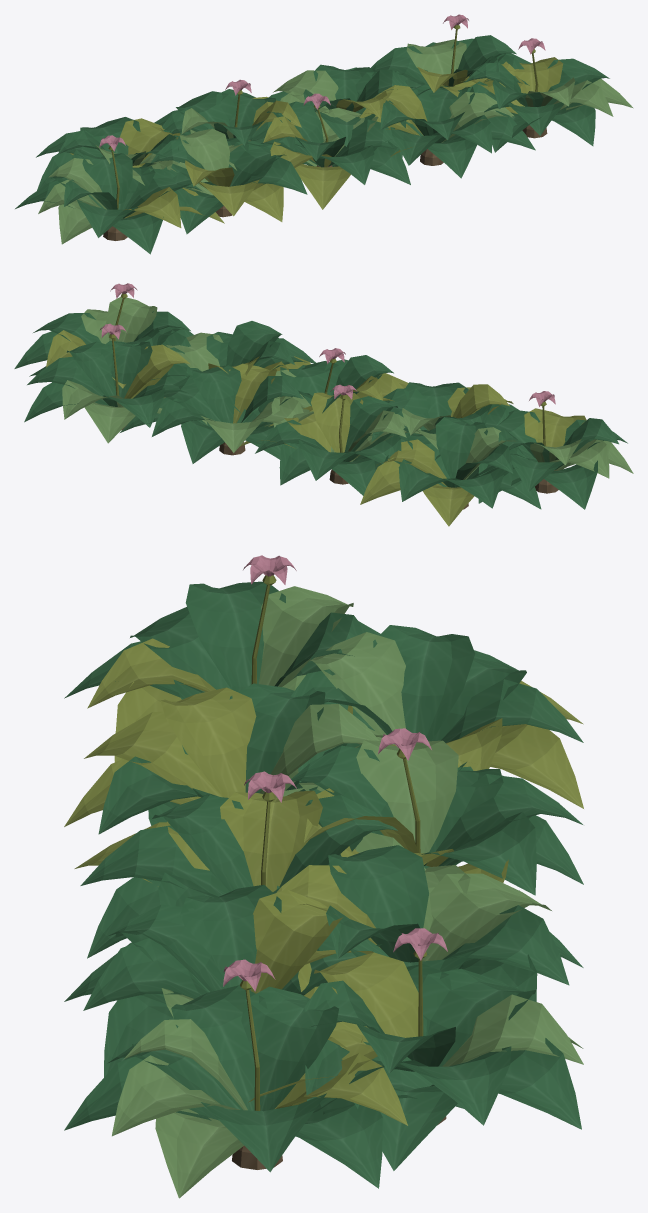
File: AST-BOT-003_pool_basal_03.glb
3 views of the same model, one above another, from view 1: azimuth 30°, elevation 25°; view 2: azimuth 150°, elevation 25°; view 3: azimuth 270°, elevation 25° (orthographic). The views are drawn at different scales.
Parts seen in each view (by area): view 1: RT_AST-BOT-003_pool_basal_03__leaf_jade, RT_AST-BOT-003_pool_basal_03__leaf_olive, RT_AST-BOT-003_pool_basal_03__leaf_sage, RT_AST-BOT-003_pool_basal_03__flower, RT_AST-BOT-003_pool_basal_03__bark; view 2: RT_AST-BOT-003_pool_basal_03__leaf_jade, RT_AST-BOT-003_pool_basal_03__leaf_olive, RT_AST-BOT-003_pool_basal_03__leaf_sage, RT_AST-BOT-003_pool_basal_03__flower, RT_AST-BOT-003_pool_basal_03__bark; view 3: RT_AST-BOT-003_pool_basal_03__leaf_jade, RT_AST-BOT-003_pool_basal_03__leaf_olive, RT_AST-BOT-003_pool_basal_03__leaf_sage, RT_AST-BOT-003_pool_basal_03__flower.
Boxes of the visible parts, box(x1,y1,x2,y2) form: RT_AST-BOT-003_pool_basal_03__leaf_jade: box(15, 35, 609, 254); RT_AST-BOT-003_pool_basal_03__leaf_olive: box(70, 24, 563, 227); RT_AST-BOT-003_pool_basal_03__leaf_sage: box(38, 39, 633, 244); RT_AST-BOT-003_pool_basal_03__flower: box(99, 14, 545, 151); RT_AST-BOT-003_pool_basal_03__bark: box(103, 125, 547, 240); RT_AST-BOT-003_pool_basal_03__leaf_jade: box(14, 311, 627, 509); RT_AST-BOT-003_pool_basal_03__leaf_olive: box(46, 293, 586, 526); RT_AST-BOT-003_pool_basal_03__leaf_sage: box(62, 297, 633, 479); RT_AST-BOT-003_pool_basal_03__flower: box(100, 283, 555, 406); RT_AST-BOT-003_pool_basal_03__bark: box(121, 425, 558, 509); RT_AST-BOT-003_pool_basal_03__leaf_jade: box(64, 581, 583, 1188); RT_AST-BOT-003_pool_basal_03__leaf_olive: box(64, 575, 583, 1125); RT_AST-BOT-003_pool_basal_03__leaf_sage: box(112, 586, 583, 1198); RT_AST-BOT-003_pool_basal_03__flower: box(223, 555, 447, 991).
Bounding box in the file's own units: 2.17 × 0.3414 × 0.86.
5 materials, 5 textured.
